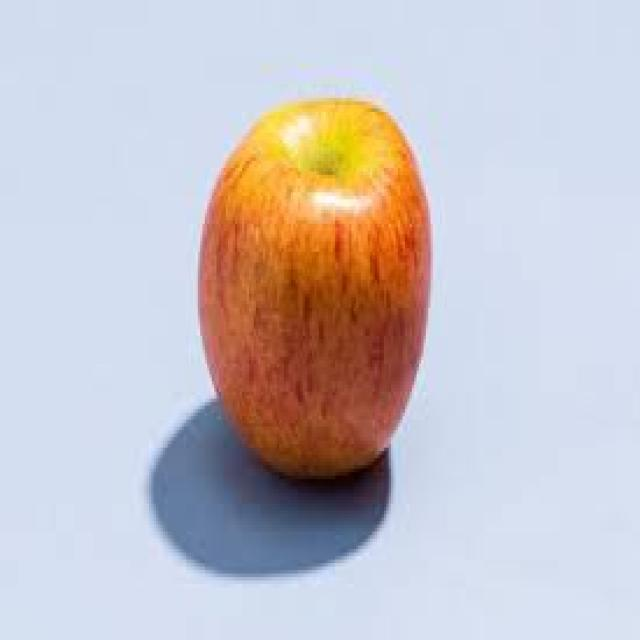apple: (193, 90, 435, 493)
